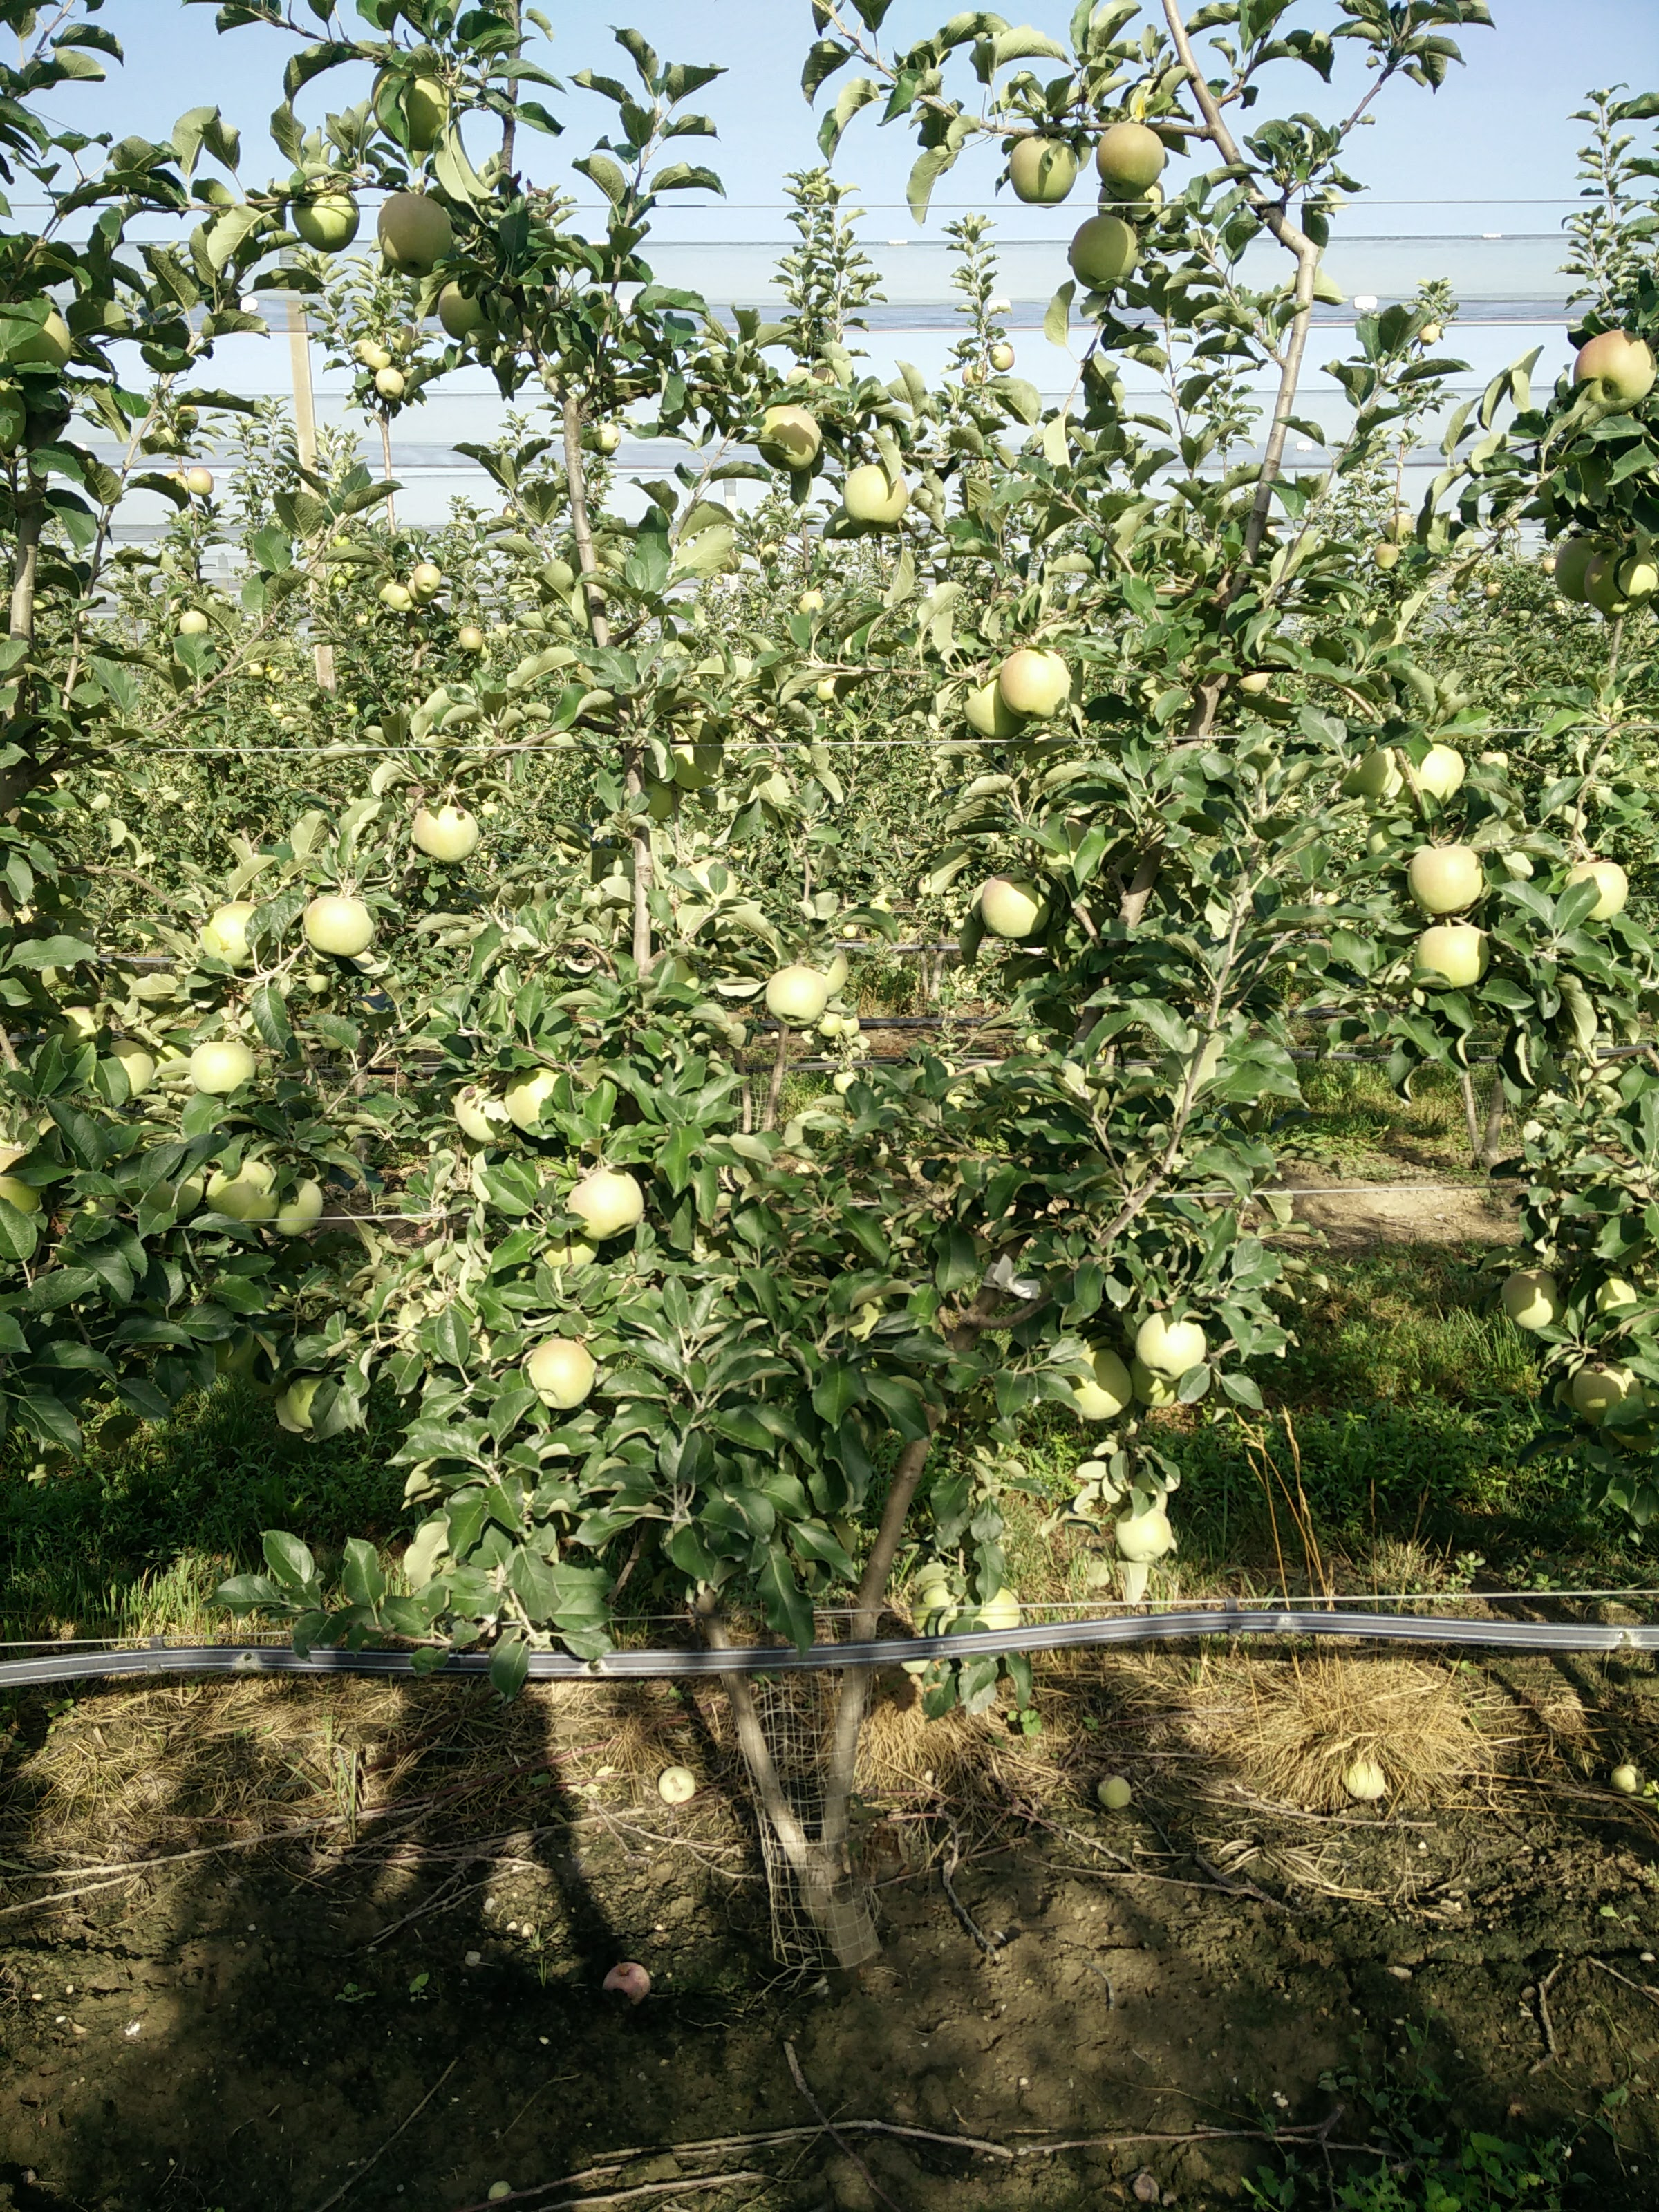apple: (1571, 326, 1659, 415), (377, 192, 458, 276), (1406, 919, 1494, 994), (1056, 1345, 1132, 1432), (1133, 1310, 1211, 1387), (565, 1167, 644, 1241), (1407, 840, 1488, 913), (1069, 210, 1140, 294), (204, 1162, 281, 1233), (752, 402, 826, 474), (523, 1339, 598, 1409), (980, 874, 1054, 942), (999, 650, 1076, 716), (303, 896, 378, 962), (290, 187, 362, 256), (842, 460, 906, 531), (1095, 125, 1168, 187), (1566, 856, 1629, 923), (1011, 136, 1074, 203), (411, 800, 481, 863), (762, 970, 827, 1029), (1114, 1505, 1171, 1564), (191, 1044, 255, 1096)
